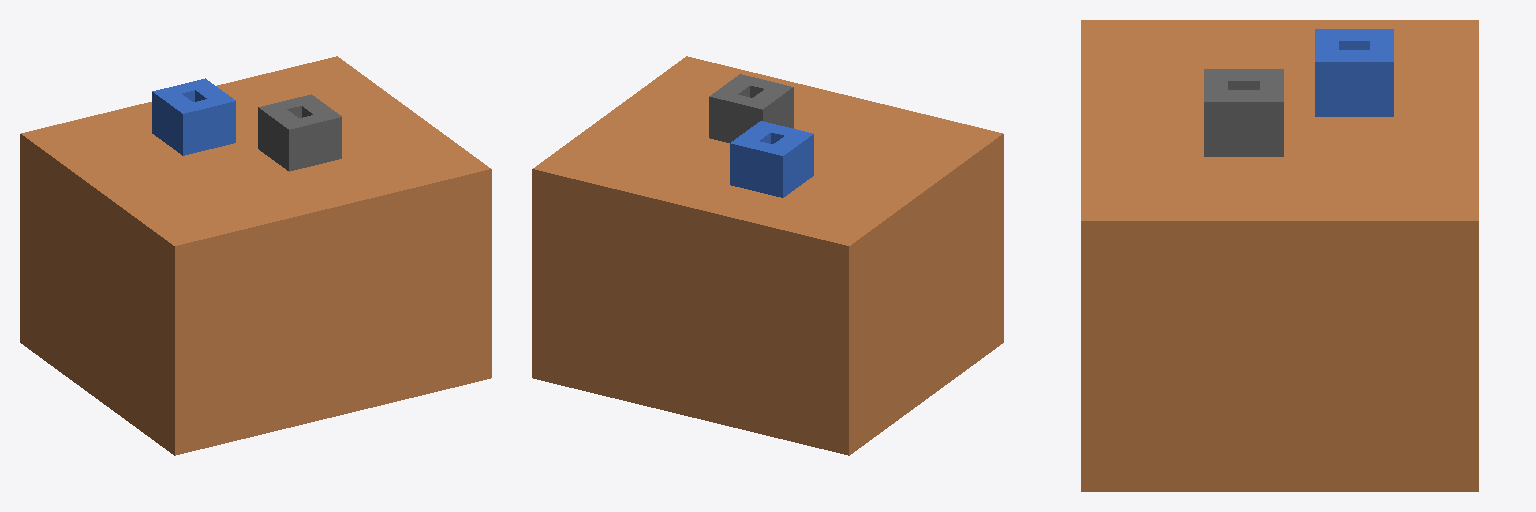
The robot description file, URDF, robot "peg_in_hole_fixtured_scene_0018_peg0007_tol02":
<?xml version="1.0"?>
<robot name="peg_in_hole_fixtured_scene_0018_peg0007_tol02">
  <material name="wood"><color rgba="0.82 0.56 0.35 1.0"/></material>
  <material name="start_fix"><color rgba="0.30 0.50 0.85 1.0"/></material>
  <material name="goal_fix"><color rgba="0.4706 0.4706 0.4706 1.0"/></material>
  <link name="box">
    <visual>
      <origin xyz="0.000000 0.000000 0.000000" rpy="0 0 0"/>
      <geometry><box size="0.475000 0.400000 0.300000"/></geometry>
      <material name="wood"/>
    </visual>
    <collision>
      <origin xyz="0.000000 0.000000 0.000000" rpy="0 0 0"/>
      <geometry><box size="0.475000 0.400000 0.300000"/></geometry>
    </collision>
    <visual>
      <origin xyz="-0.049210 0.074868 0.155000" rpy="0 0 0"/>
      <geometry><box size="0.080000 0.080000 0.010000"/></geometry>
      <material name="start_fix"/>
    </visual>
    <collision>
      <origin xyz="-0.049210 0.074868 0.155000" rpy="0 0 0"/>
      <geometry><box size="0.080000 0.080000 0.010000"/></geometry>
    </collision>
    <visual>
      <origin xyz="-0.023960 0.074868 0.185000" rpy="0 0 0"/>
      <geometry><box size="0.029500 0.080000 0.050000"/></geometry>
      <material name="start_fix"/>
    </visual>
    <collision>
      <origin xyz="-0.023960 0.074868 0.185000" rpy="0 0 0"/>
      <geometry><box size="0.029500 0.080000 0.050000"/></geometry>
    </collision>
    <visual>
      <origin xyz="-0.074460 0.074868 0.185000" rpy="0 0 0"/>
      <geometry><box size="0.029500 0.080000 0.050000"/></geometry>
      <material name="start_fix"/>
    </visual>
    <collision>
      <origin xyz="-0.074460 0.074868 0.185000" rpy="0 0 0"/>
      <geometry><box size="0.029500 0.080000 0.050000"/></geometry>
    </collision>
    <visual>
      <origin xyz="-0.049210 0.102618 0.185000" rpy="0 0 0"/>
      <geometry><box size="0.021000 0.024500 0.050000"/></geometry>
      <material name="start_fix"/>
    </visual>
    <collision>
      <origin xyz="-0.049210 0.102618 0.185000" rpy="0 0 0"/>
      <geometry><box size="0.021000 0.024500 0.050000"/></geometry>
    </collision>
    <visual>
      <origin xyz="-0.049210 0.047118 0.185000" rpy="0 0 0"/>
      <geometry><box size="0.021000 0.024500 0.050000"/></geometry>
      <material name="start_fix"/>
    </visual>
    <collision>
      <origin xyz="-0.049210 0.047118 0.185000" rpy="0 0 0"/>
      <geometry><box size="0.021000 0.024500 0.050000"/></geometry>
    </collision>
    <visual>
      <origin xyz="0.045670 -0.036028 0.155000" rpy="0 0 0"/>
      <geometry><box size="0.080000 0.080000 0.010000"/></geometry>
      <material name="goal_fix"/>
    </visual>
    <collision>
      <origin xyz="0.045670 -0.036028 0.155000" rpy="0 0 0"/>
      <geometry><box size="0.080000 0.080000 0.010000"/></geometry>
    </collision>
    <visual>
      <origin xyz="0.071170 -0.036028 0.185000" rpy="0 0 0"/>
      <geometry><box size="0.029000 0.080000 0.050000"/></geometry>
      <material name="goal_fix"/>
    </visual>
    <collision>
      <origin xyz="0.071170 -0.036028 0.185000" rpy="0 0 0"/>
      <geometry><box size="0.029000 0.080000 0.050000"/></geometry>
    </collision>
    <visual>
      <origin xyz="0.020170 -0.036028 0.185000" rpy="0 0 0"/>
      <geometry><box size="0.029000 0.080000 0.050000"/></geometry>
      <material name="goal_fix"/>
    </visual>
    <collision>
      <origin xyz="0.020170 -0.036028 0.185000" rpy="0 0 0"/>
      <geometry><box size="0.029000 0.080000 0.050000"/></geometry>
    </collision>
    <visual>
      <origin xyz="0.045670 -0.008028 0.185000" rpy="0 0 0"/>
      <geometry><box size="0.021999 0.024000 0.050000"/></geometry>
      <material name="goal_fix"/>
    </visual>
    <collision>
      <origin xyz="0.045670 -0.008028 0.185000" rpy="0 0 0"/>
      <geometry><box size="0.021999 0.024000 0.050000"/></geometry>
    </collision>
    <visual>
      <origin xyz="0.045670 -0.064027 0.185000" rpy="0 0 0"/>
      <geometry><box size="0.021999 0.024000 0.050000"/></geometry>
      <material name="goal_fix"/>
    </visual>
    <collision>
      <origin xyz="0.045670 -0.064027 0.185000" rpy="0 0 0"/>
      <geometry><box size="0.021999 0.024000 0.050000"/></geometry>
    </collision>
    <inertial>
      <mass value="500"/>
      <friction value="1.0"/>
      <inertia ixx="1000.0" ixy="0.0" ixz="0.0" iyy="1000.0" iyz="0.0" izz="1000.0"/>
    </inertial>
  </link>
</robot>

--- Facts derived from the render (not from the file) ---
3 views of the same robot in one strip: view 1: azimuth 30°, elevation 25°; view 2: azimuth 150°, elevation 25°; view 3: azimuth 270°, elevation 25° (orthographic).
Model peg_in_hole_fixtured_scene_0018_peg0007_tol02 with 1 links and 0 joints (none), rooted at box, posed all joints at 0.
Links seen in each view (by area): view 1: box; view 2: box; view 3: box.
Link boxes in pixels (<box>): box: <box>20,56,491,455</box>; box: <box>532,56,1003,455</box>; box: <box>1081,20,1478,491</box>.
Bounding box of the posed robot: 0.475 × 0.4 × 0.36 m (x, y, z).
Geometry: primitives only (box / cylinder / sphere), no mesh files.
